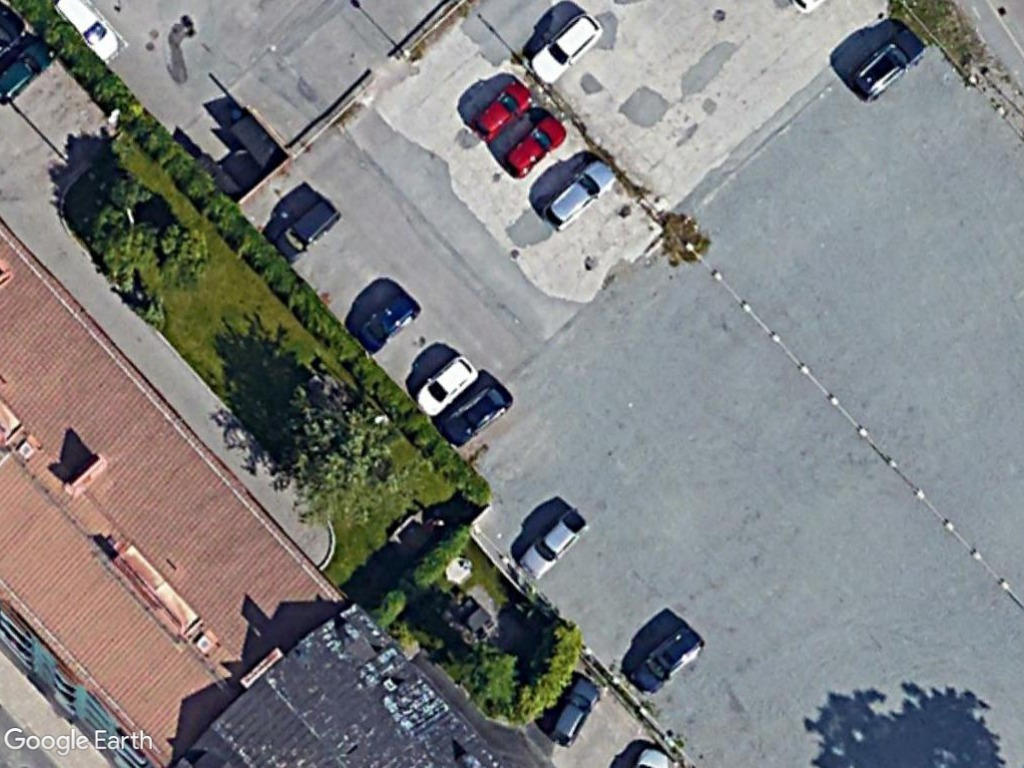car: (845, 24, 929, 105), (537, 155, 622, 234), (528, 8, 604, 88), (516, 505, 593, 580), (630, 626, 707, 696), (440, 380, 516, 449), (499, 112, 569, 182), (273, 198, 343, 265), (410, 351, 480, 418), (543, 674, 603, 752), (350, 290, 421, 355), (466, 78, 536, 143)
